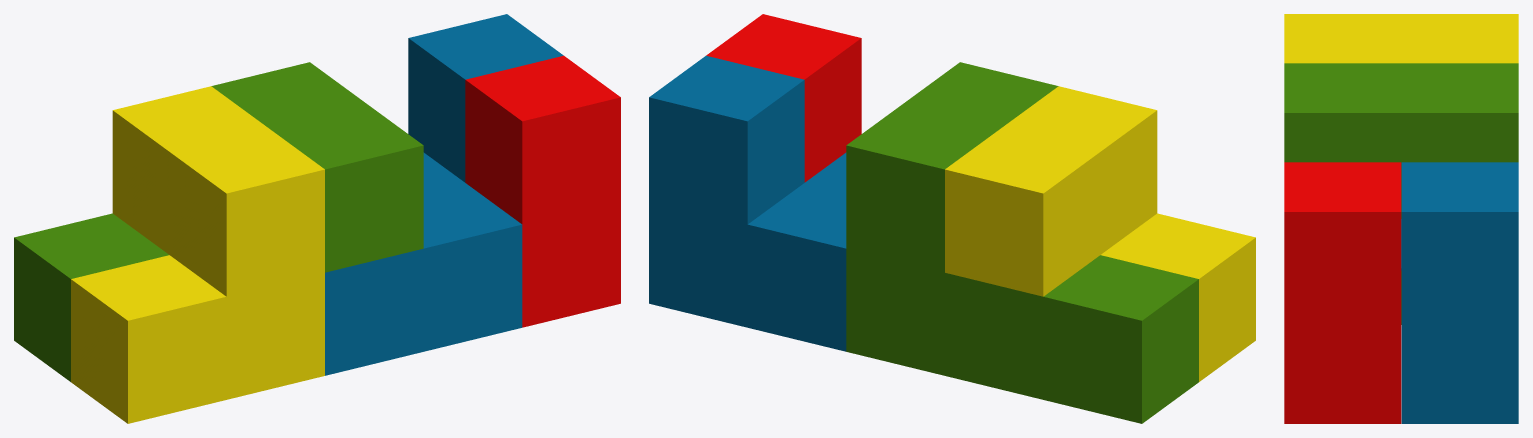
3 views of the same model, side by side, from view 1: azimuth 30°, elevation 25°; view 2: azimuth 150°, elevation 25°; view 3: azimuth 270°, elevation 25° (orthographic). The views are drawn at different scales.
Parts seen in each view (by area): view 1: mergedBlocks(Clone); view 2: mergedBlocks(Clone); view 3: mergedBlocks(Clone).
Boxes of the visible parts, x1,y1,x2,y2 form: mergedBlocks(Clone): (14,14,620,423); mergedBlocks(Clone): (649,14,1255,423); mergedBlocks(Clone): (1284,14,1518,423).
Bounding box in the file's own units: 5 × 2 × 2.
Materials: 4 (4 with a texture image).
